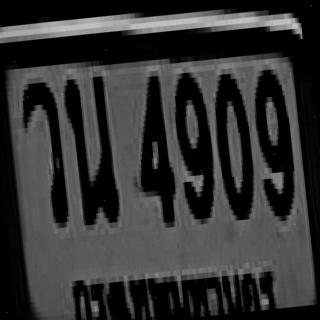A25: (60, 68, 118, 223)
A37: (16, 76, 67, 225)
N00: (209, 67, 256, 216)
N04: (128, 70, 176, 224)
N09: (250, 63, 297, 217), (168, 66, 215, 220)
